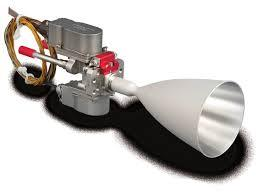thruster: (135, 78, 246, 159)
